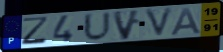4: (52, 14, 75, 45)
A: (169, 7, 204, 37)
U: (82, 11, 113, 43)
V: (143, 6, 176, 40), (111, 9, 143, 42)
Z: (21, 15, 51, 47)
